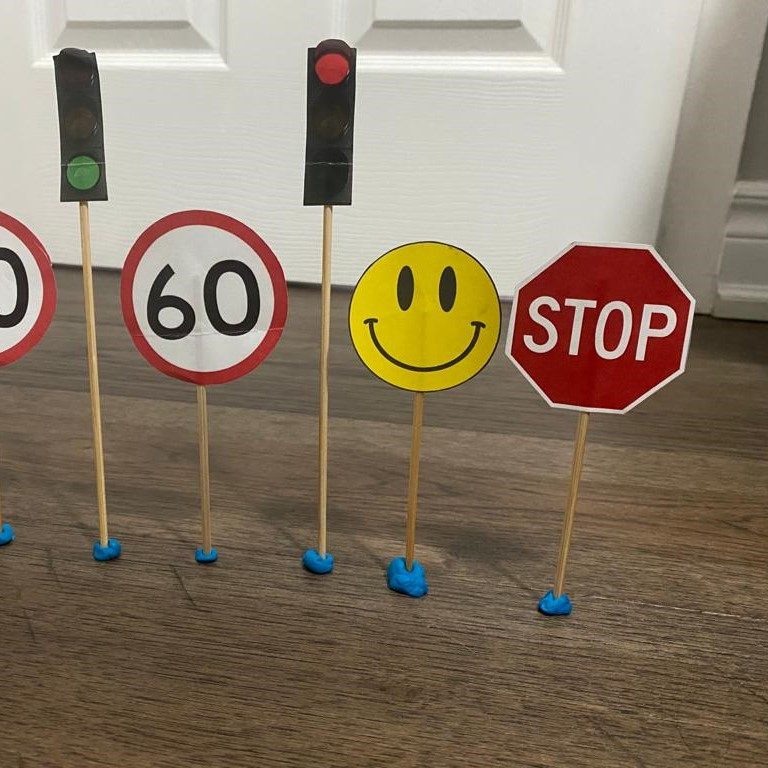Green Traffic Light: (49, 47, 112, 205)
Person: (344, 240, 501, 394)
Red Traffic Light: (299, 37, 359, 210)
Speed Limit 60: (117, 208, 291, 387)
Stop Sign: (505, 240, 699, 417)
